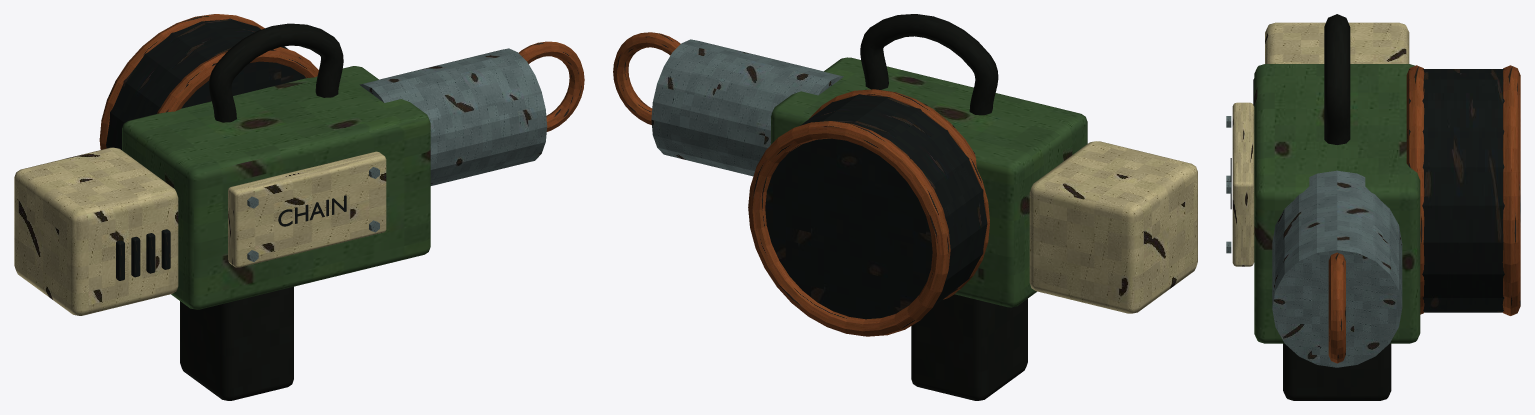
File: eq-chainlauncher.glb
3 views of the same model, side by side, from view 1: azimuth 30°, elevation 25°; view 2: azimuth 150°, elevation 25°; view 3: azimuth 270°, elevation 25° (orthographic). The views are drawn at different scales.
Parts seen in each view (by area): view 1: Industrial receiver, Stock, Large muzzle, Cream inset.002, Pistol grip, Drum, Carry handle.001, Drum rim, Chain anchor, Drum rim.001, Mark_CHAIN; view 2: Drum, Stock, Industrial receiver, Large muzzle, Drum rim.001, Pistol grip, Carry handle.001, Chain anchor, Drum rim; view 3: Industrial receiver, Large muzzle, Drum, Stock, Pistol grip, Drum rim.001, Cream inset.002, Carry handle.001, Drum rim, Chain anchor.
Part boxes in pixels (x1=…): Industrial receiver: x1=122, y1=66, x2=430, y2=309; Stock: x1=14, y1=147, x2=178, y2=315; Large muzzle: x1=359, y1=48, x2=547, y2=185; Cream inset.002: x1=228, y1=151, x2=386, y2=267; Pistol grip: x1=180, y1=286, x2=293, y2=400; Drum: x1=106, y1=18, x2=305, y2=149; Carry handle.001: x1=209, y1=23, x2=343, y2=122; Drum rim: x1=157, y1=47, x2=318, y2=113; Chain anchor: x1=518, y1=41, x2=584, y2=131; Drum rim.001: x1=99, y1=14, x2=264, y2=149; Mark_CHAIN: x1=278, y1=195, x2=346, y2=226; Drum: x1=765, y1=89, x2=987, y2=319; Stock: x1=1029, y1=141, x2=1197, y2=313; Industrial receiver: x1=771, y1=57, x2=1087, y2=307; Large muzzle: x1=651, y1=39, x2=843, y2=176; Drum rim.001: x1=748, y1=121, x2=950, y2=336; Pistol grip: x1=911, y1=294, x2=1027, y2=400; Carry handle.001: x1=860, y1=14, x2=998, y2=115; Chain anchor: x1=613, y1=32, x2=680, y2=124; Drum rim: x1=809, y1=89, x2=989, y2=299; Industrial receiver: x1=1254, y1=64, x2=1420, y2=343; Large muzzle: x1=1272, y1=170, x2=1402, y2=367; Drum: x1=1409, y1=69, x2=1504, y2=312; Stock: x1=1265, y1=22, x2=1409, y2=63; Pistol grip: x1=1283, y1=343, x2=1391, y2=400; Drum rim.001: x1=1502, y1=65, x2=1520, y2=315; Cream inset.002: x1=1232, y1=102, x2=1254, y2=266; Carry handle.001: x1=1324, y1=14, x2=1350, y2=144; Drum rim: x1=1406, y1=65, x2=1424, y2=314; Chain anchor: x1=1328, y1=252, x2=1345, y2=363.
Bounding box in the file's own units: 0.962 × 0.5853 × 0.4075.
Materials: 6 (6 with a texture image).
